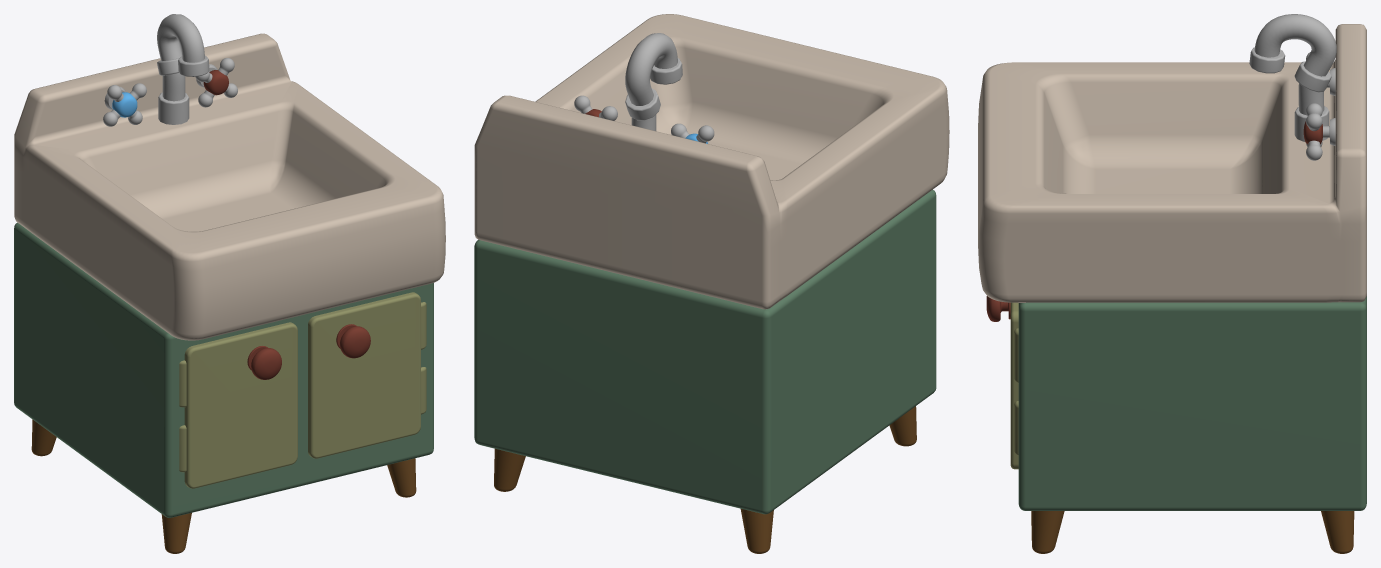
File: SM_Kitchen_Cabinet_J.fbx
The picture shows the model from 3 angles, left to right: view 1: azimuth 30°, elevation 25°; view 2: azimuth 150°, elevation 25°; view 3: azimuth 270°, elevation 25°; orthographic projection. The views are drawn at different scales.
Parts seen in each view (by area): view 1: Cube.052, Cube.050, Cube.051, SM_Kitchen_Cabinet_J, Cylinder.020, Cylinder.021, SM_Shelf_Dresser_A_Drawer_01.011, SM_Shelf_Dresser_A_Drawer_01.012, Sphere.018, Sphere.020; view 2: Cube.050, Cube.052, SM_Kitchen_Cabinet_J, Cylinder.020; view 3: Cube.052, Cube.050, SM_Kitchen_Cabinet_J, Cylinder.020, Cube.051, Sphere.020, Cylinder.021.
Part boxes in pixels (box(x1,y1,x2,y2)): Cube.052: box(14, 33, 445, 340); Cube.050: box(14, 222, 433, 517); Cube.051: box(184, 292, 420, 488); SM_Kitchen_Cabinet_J: box(157, 14, 209, 124); Cylinder.020: box(31, 419, 416, 553); Cylinder.021: box(179, 302, 426, 472); SM_Shelf_Dresser_A_Drawer_01.011: box(336, 324, 370, 358); SM_Shelf_Dresser_A_Drawer_01.012: box(247, 346, 281, 379); Sphere.018: box(103, 83, 146, 126); Sphere.020: box(195, 58, 237, 107); Cube.050: box(474, 189, 936, 514); Cube.052: box(474, 14, 949, 309); SM_Kitchen_Cabinet_J: box(625, 33, 682, 130); Cylinder.020: box(494, 406, 916, 553); Cube.052: box(978, 24, 1366, 302); Cube.050: box(1018, 296, 1366, 510); SM_Kitchen_Cabinet_J: box(1249, 14, 1336, 141); Cylinder.020: box(1031, 511, 1354, 553); Cube.051: box(1010, 302, 1018, 469); Sphere.020: box(1306, 103, 1335, 160); Cylinder.021: box(1014, 328, 1018, 455).
Size of what is drawn, in the model's own units: 100 by 150 by 112.
